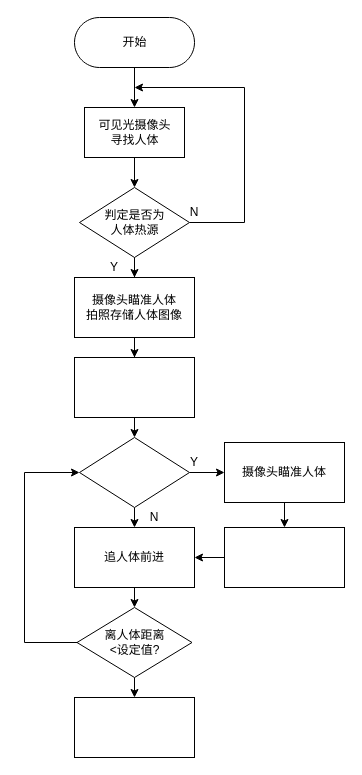
Some shapes in this 362 by 775 pixel diagram are drawn without their labels. The box of each missing label's shape, as (x1, y1, x2, y2) in pixels:
上位机指定 目标人体图像: (74, 356, 194, 418)
停止: (74, 696, 194, 758)
是否有障碍物: (78, 436, 190, 508)
避开障碍物: (224, 526, 344, 588)
